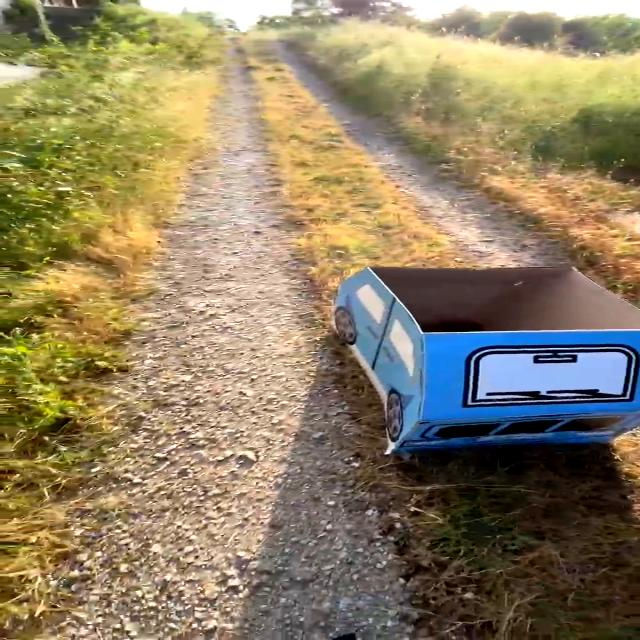blue_car: (277, 251, 640, 477)
